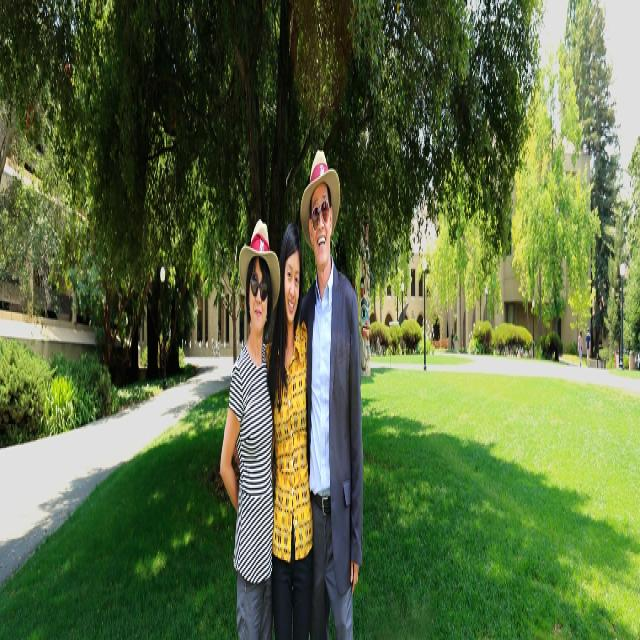body: (294, 144, 364, 638), (218, 213, 282, 638), (264, 216, 314, 640), (360, 270, 371, 330), (585, 328, 591, 370), (577, 328, 582, 371), (634, 345, 640, 376), (450, 327, 455, 348)
